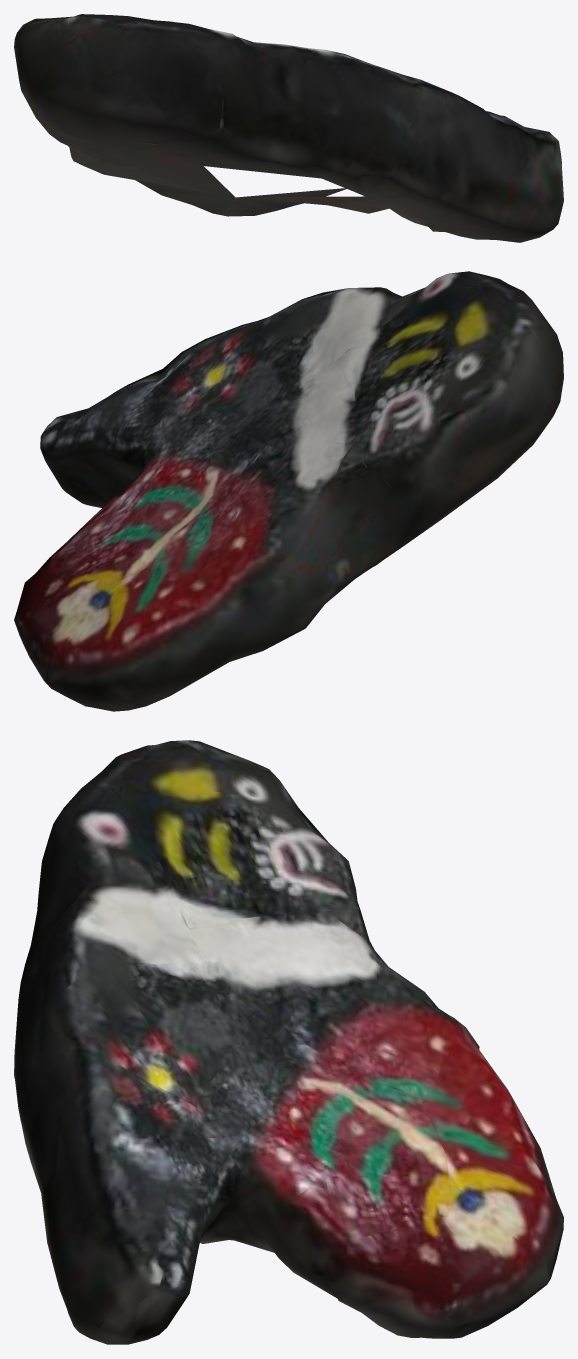
The model's file is hall.glb.
3 views of the same model, one above another, from view 1: azimuth 30°, elevation 25°; view 2: azimuth 150°, elevation 25°; view 3: azimuth 270°, elevation 25° (orthographic). The views are drawn at different scales.
Size of the model in its own units: 0.6145 by 0.4082 by 0.4863.
1 material, 1 textured.
